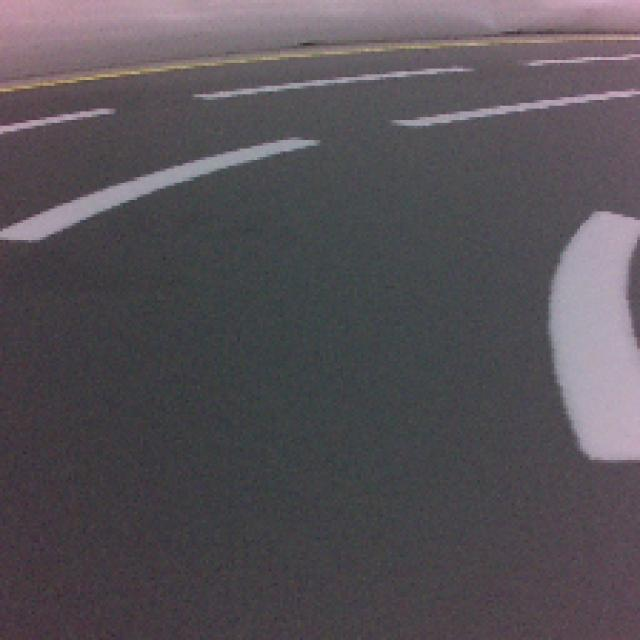Road: (0, 353, 592, 640)
